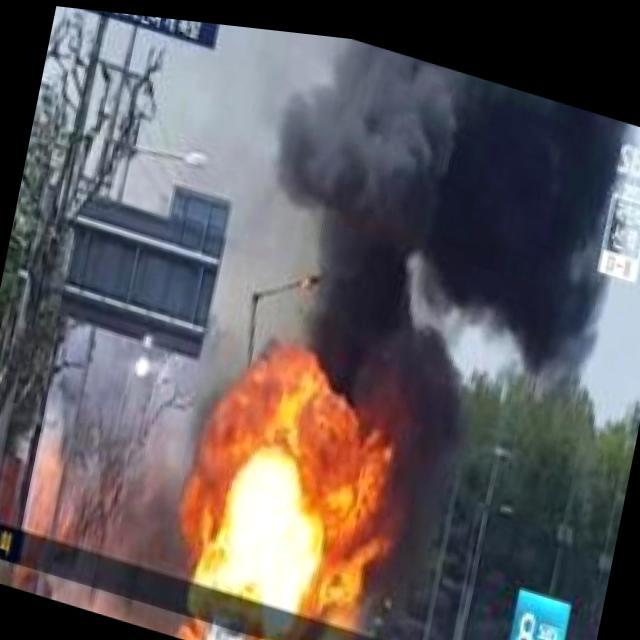fire: (169, 366, 411, 640)
